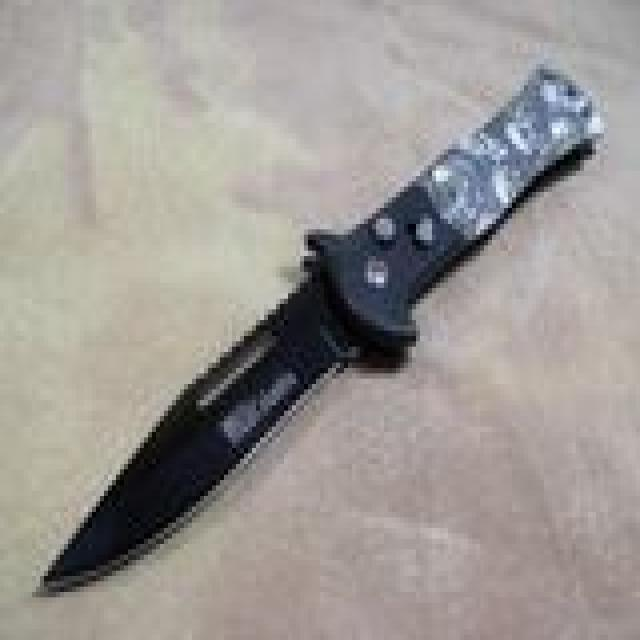Knife: (27, 54, 602, 610)
